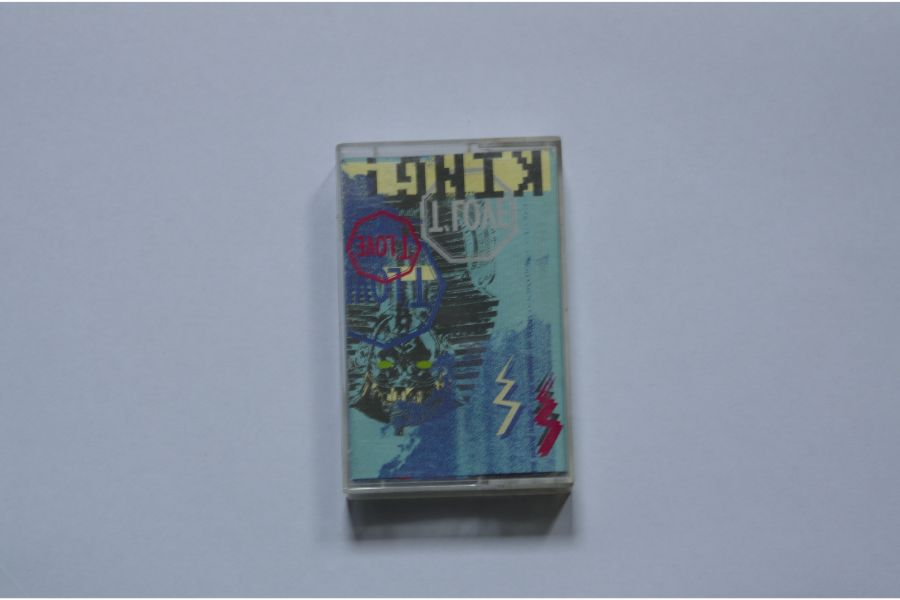album: (331, 137, 581, 501)
